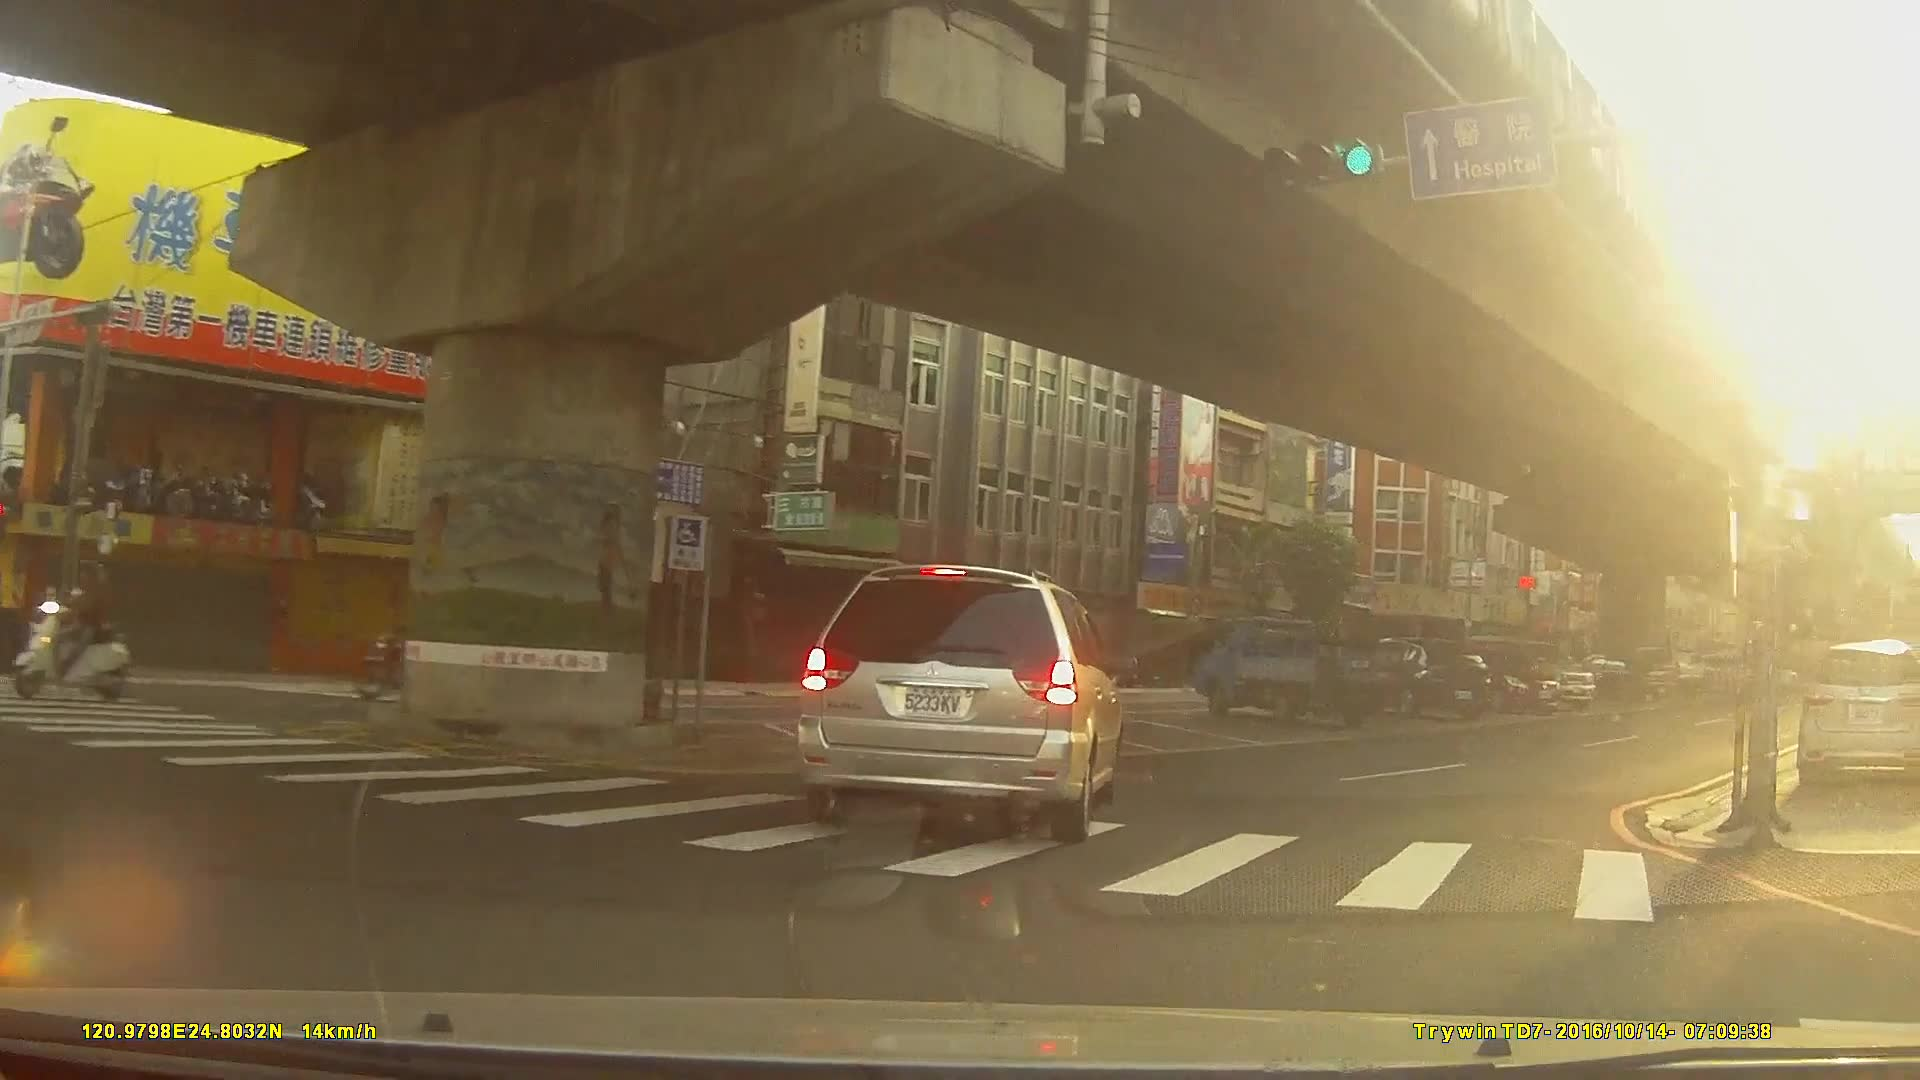rider: (13, 565, 128, 705)
vehicle: (793, 562, 1124, 845), (1188, 612, 1402, 725), (1797, 638, 1920, 790), (1354, 633, 1493, 718), (1434, 644, 1564, 715), (1558, 656, 1646, 702)
